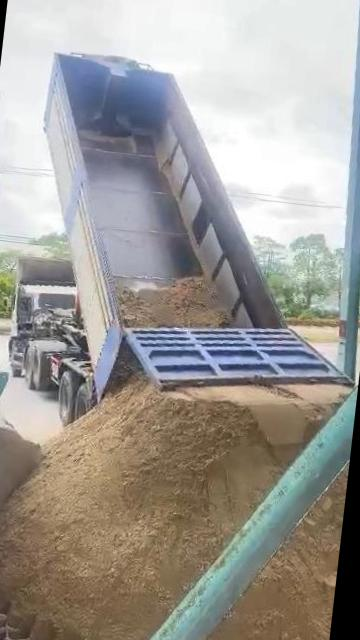sand: (0, 381, 344, 640), (186, 473, 346, 640), (118, 277, 233, 327), (0, 414, 43, 518), (113, 348, 145, 389)
